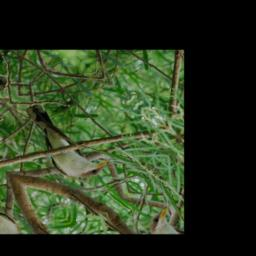Cuckoo: (4, 99, 114, 190)
